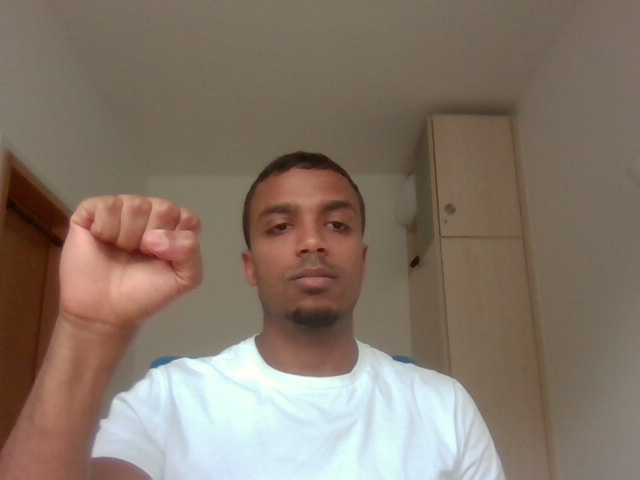neutral: (45, 174, 220, 354)
